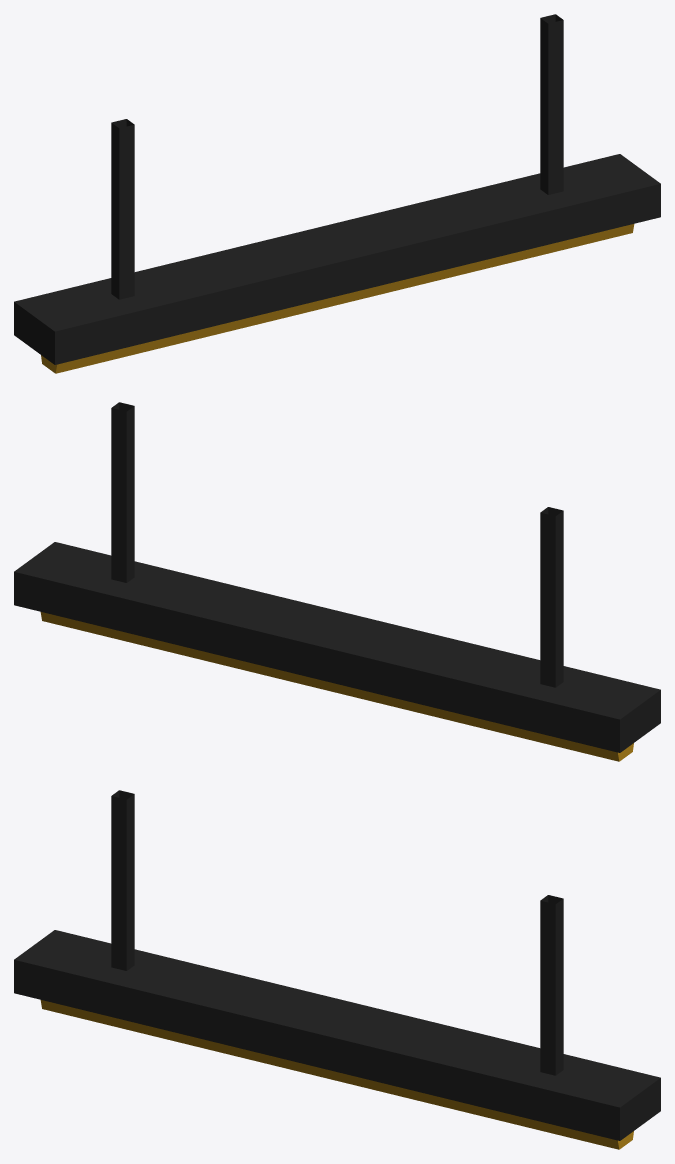
File: Wall_Light_4.obj
3 renders of one model, top to bottom at view 1: azimuth 30°, elevation 25°; view 2: azimuth 150°, elevation 25°; view 3: azimuth 330°, elevation 25°, orthographic.
Visible parts, largest first — view 1: Wall_Light_4; view 2: Wall_Light_4; view 3: Wall_Light_4.
Part boxes in pixels (<box>): Wall_Light_4: <box>14,14,660,373</box>; Wall_Light_4: <box>14,402,660,761</box>; Wall_Light_4: <box>14,790,660,1149</box>.
Size of the model in its own units: 0.9891 by 0.3543 by 0.1157.
